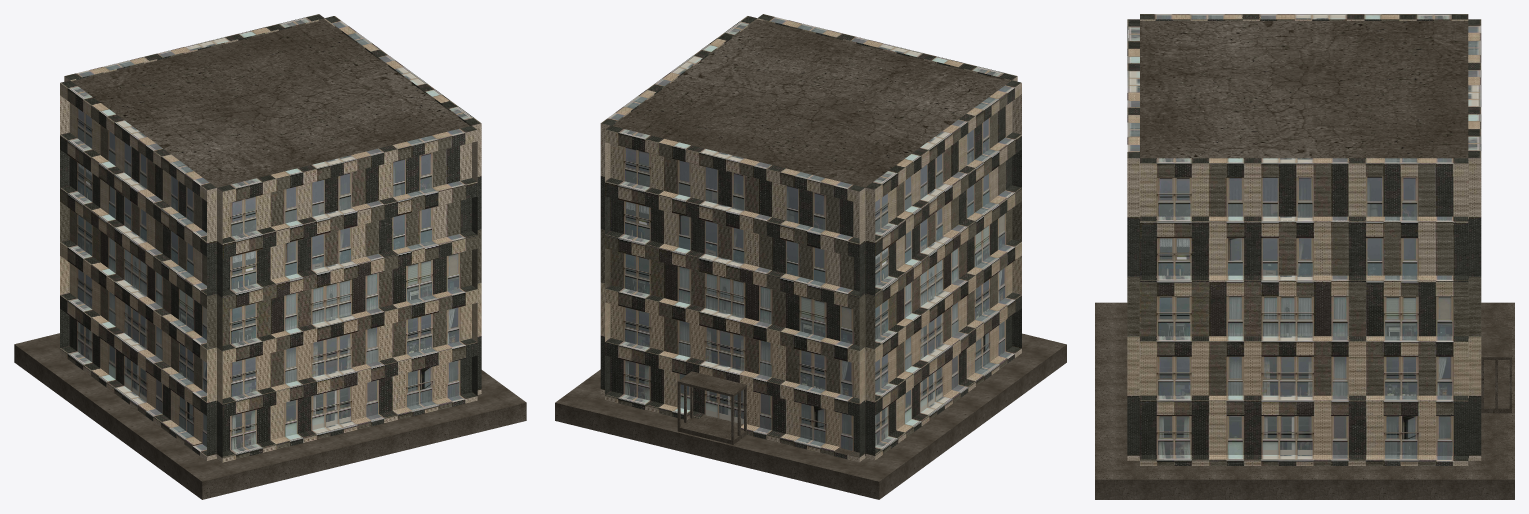
Rendered from BagSS04base_200.fbx.
3 views of the same model, side by side, from view 1: azimuth 30°, elevation 25°; view 2: azimuth 150°, elevation 25°; view 3: azimuth 270°, elevation 25° (orthographic). The views are drawn at different scales.
Parts seen in each view (by area): view 1: baseBox200, baseMain200, baseRoof200, base_base200; view 2: baseBox200, baseMain200, baseRoof200, base_base200; view 3: baseBox200, baseMain200, baseRoof200, base_base200.
Boxes of the visible parts, x1,y1,x2,y2 form: baseBox200: [69, 102, 471, 456]; baseMain200: [60, 14, 481, 462]; baseRoof200: [71, 19, 469, 187]; base_base200: [14, 333, 526, 499]; baseBox200: [610, 101, 1012, 456]; baseMain200: [600, 14, 1021, 462]; baseRoof200: [612, 19, 1009, 187]; base_base200: [555, 333, 1066, 499]; baseBox200: [1139, 160, 1468, 458]; baseMain200: [1127, 14, 1481, 465]; baseRoof200: [1140, 21, 1468, 160]; base_base200: [1095, 302, 1514, 499].
Bounding box in the file's own units: 26.1 × 22.2 × 26.17.
